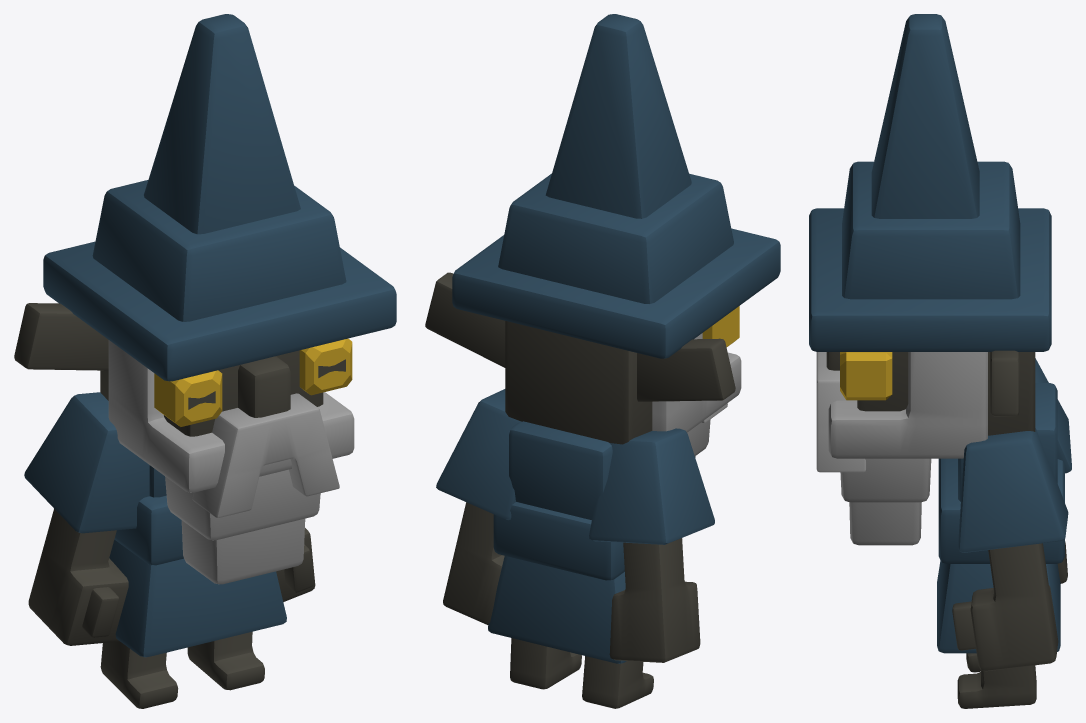
Rendered from healer.obj.
3 views of the same model, side by side, from view 1: azimuth 30°, elevation 25°; view 2: azimuth 150°, elevation 25°; view 3: azimuth 270°, elevation 25° (orthographic). The views are drawn at different scales.
Visible parts, largest first — view 1: Wizard_Cube.277; view 2: Wizard_Cube.277; view 3: Wizard_Cube.277.
Boxes of the visible parts, box(x1,y1,x2,y2) form: Wizard_Cube.277: box(14, 14, 396, 708); Wizard_Cube.277: box(425, 14, 780, 708); Wizard_Cube.277: box(809, 14, 1071, 708).
Bounding box in the file's own units: 2.13 × 4.37 × 1.57.
